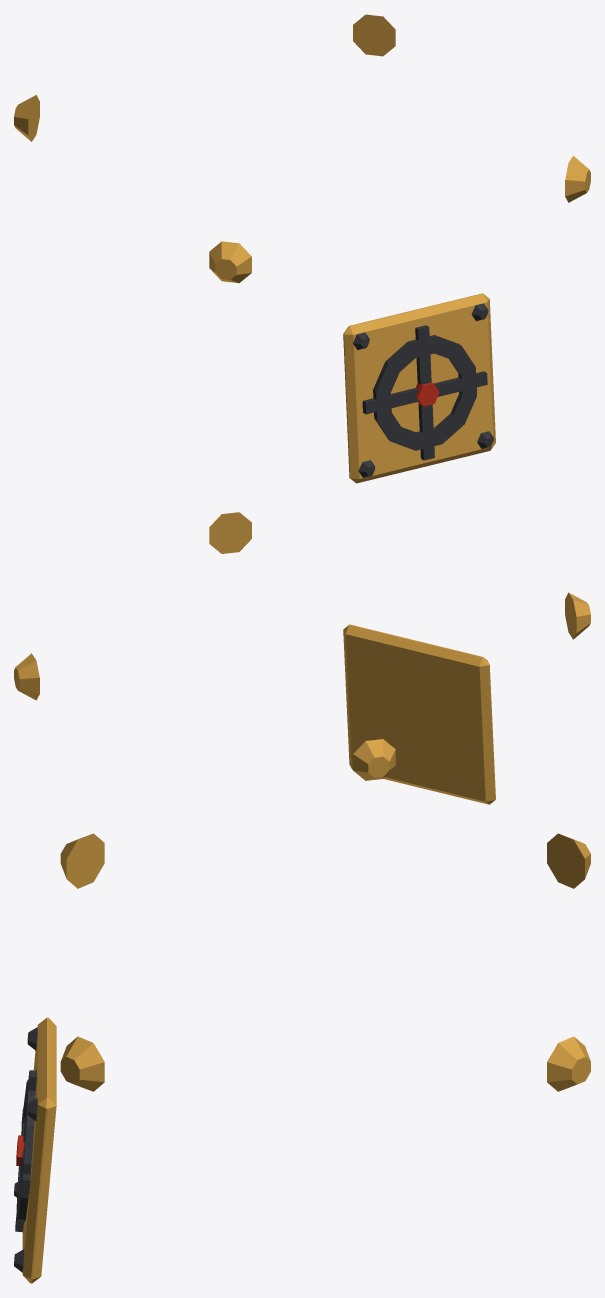
Rendered from SniperKit8.obj.
3 renders of one model, top to bottom at view 1: azimuth 30°, elevation 25°; view 2: azimuth 150°, elevation 25°; view 3: azimuth 270°, elevation 25°, orthographic. The views are drawn at different scales.
Parts seen in each view (by area): view 1: SniperKit8; view 2: SniperKit8; view 3: SniperKit8.
Part boxes in pixels (box(x1,y1,x2,y2)): SniperKit8: box(14, 14, 590, 483); SniperKit8: box(14, 512, 590, 804); SniperKit8: box(14, 833, 590, 1283).
Size of the model in its own units: 0.6183 by 0.393 by 0.6728.
